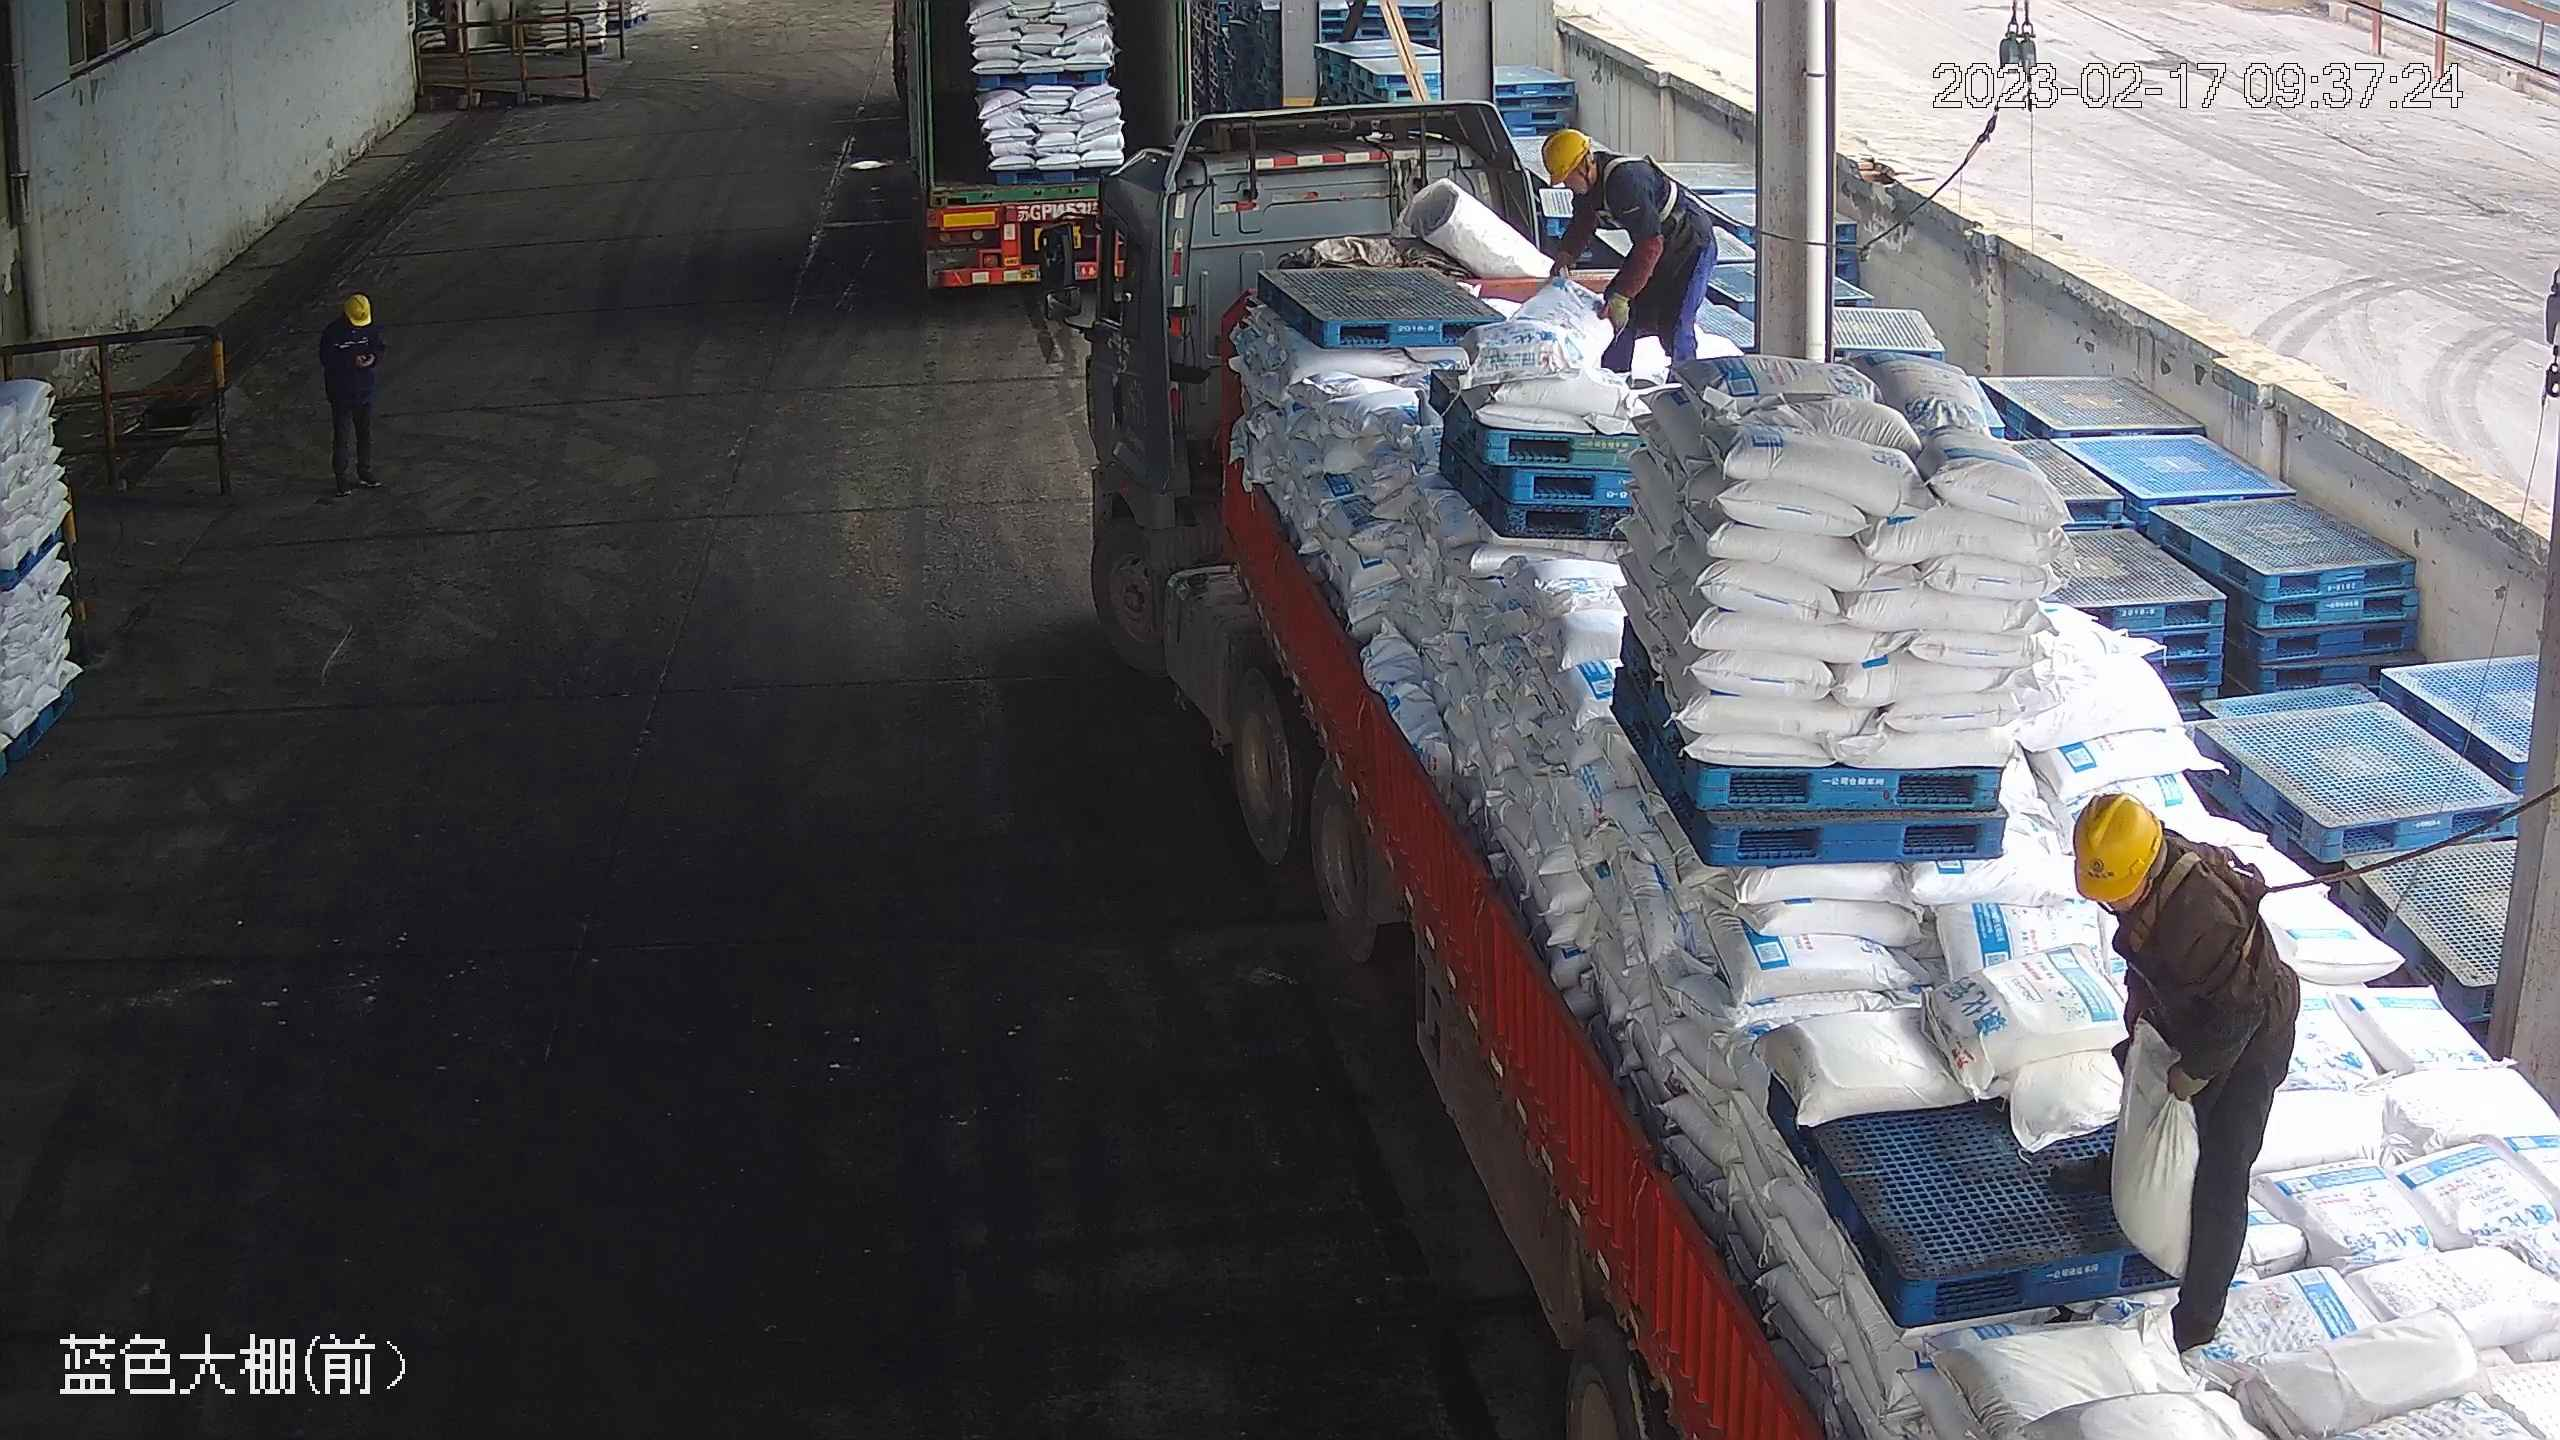belt: (2122, 844, 2262, 982), (1590, 148, 1684, 227)
head: (2064, 789, 2250, 954), (1540, 124, 1647, 219), (318, 291, 383, 354)
helmet: (2069, 790, 2167, 900), (1539, 125, 1591, 183), (342, 292, 373, 323)
people: (2065, 788, 2307, 1361), (1537, 122, 1722, 379), (317, 292, 387, 496)
truck: (1036, 98, 2554, 1439), (888, 1, 1187, 292)
